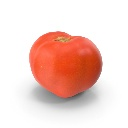tomato: (29, 31, 102, 97)
